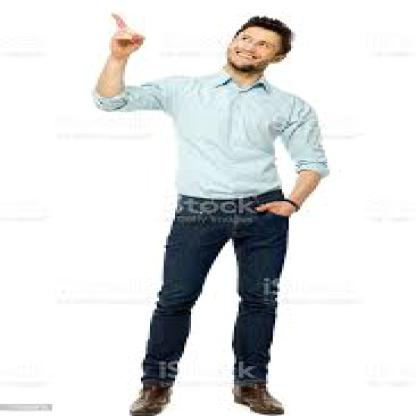Up: (98, 8, 153, 60)
